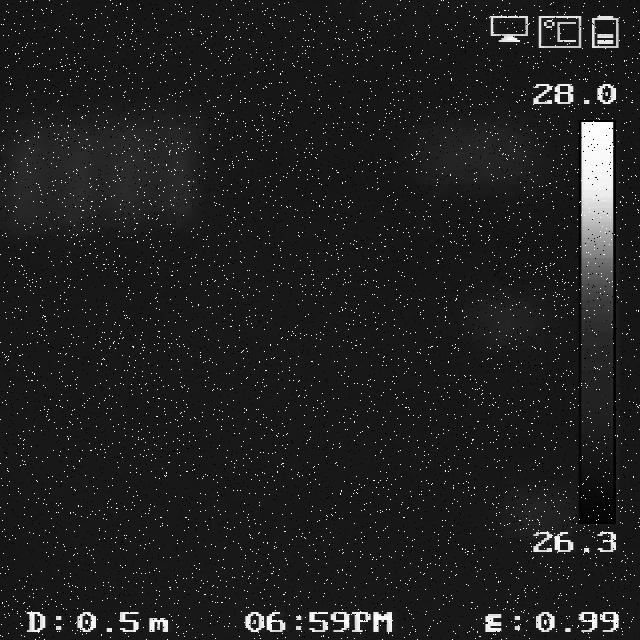Indistinguishable 4-bar target: (420, 120, 537, 185), (474, 296, 542, 337), (516, 491, 577, 531)
threshold 4-bar target: (0, 108, 211, 231)
